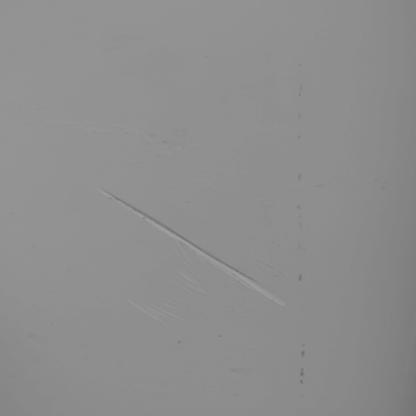sunshang: (102, 194, 288, 305)
